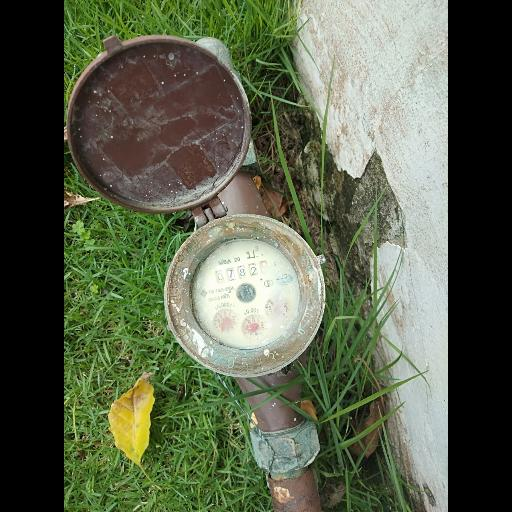0: (216, 270, 225, 284), (260, 260, 268, 274)
2: (249, 262, 258, 276)
7: (226, 267, 236, 281)
8: (238, 265, 247, 279)
border_water_meter_number: (215, 260, 269, 284)
